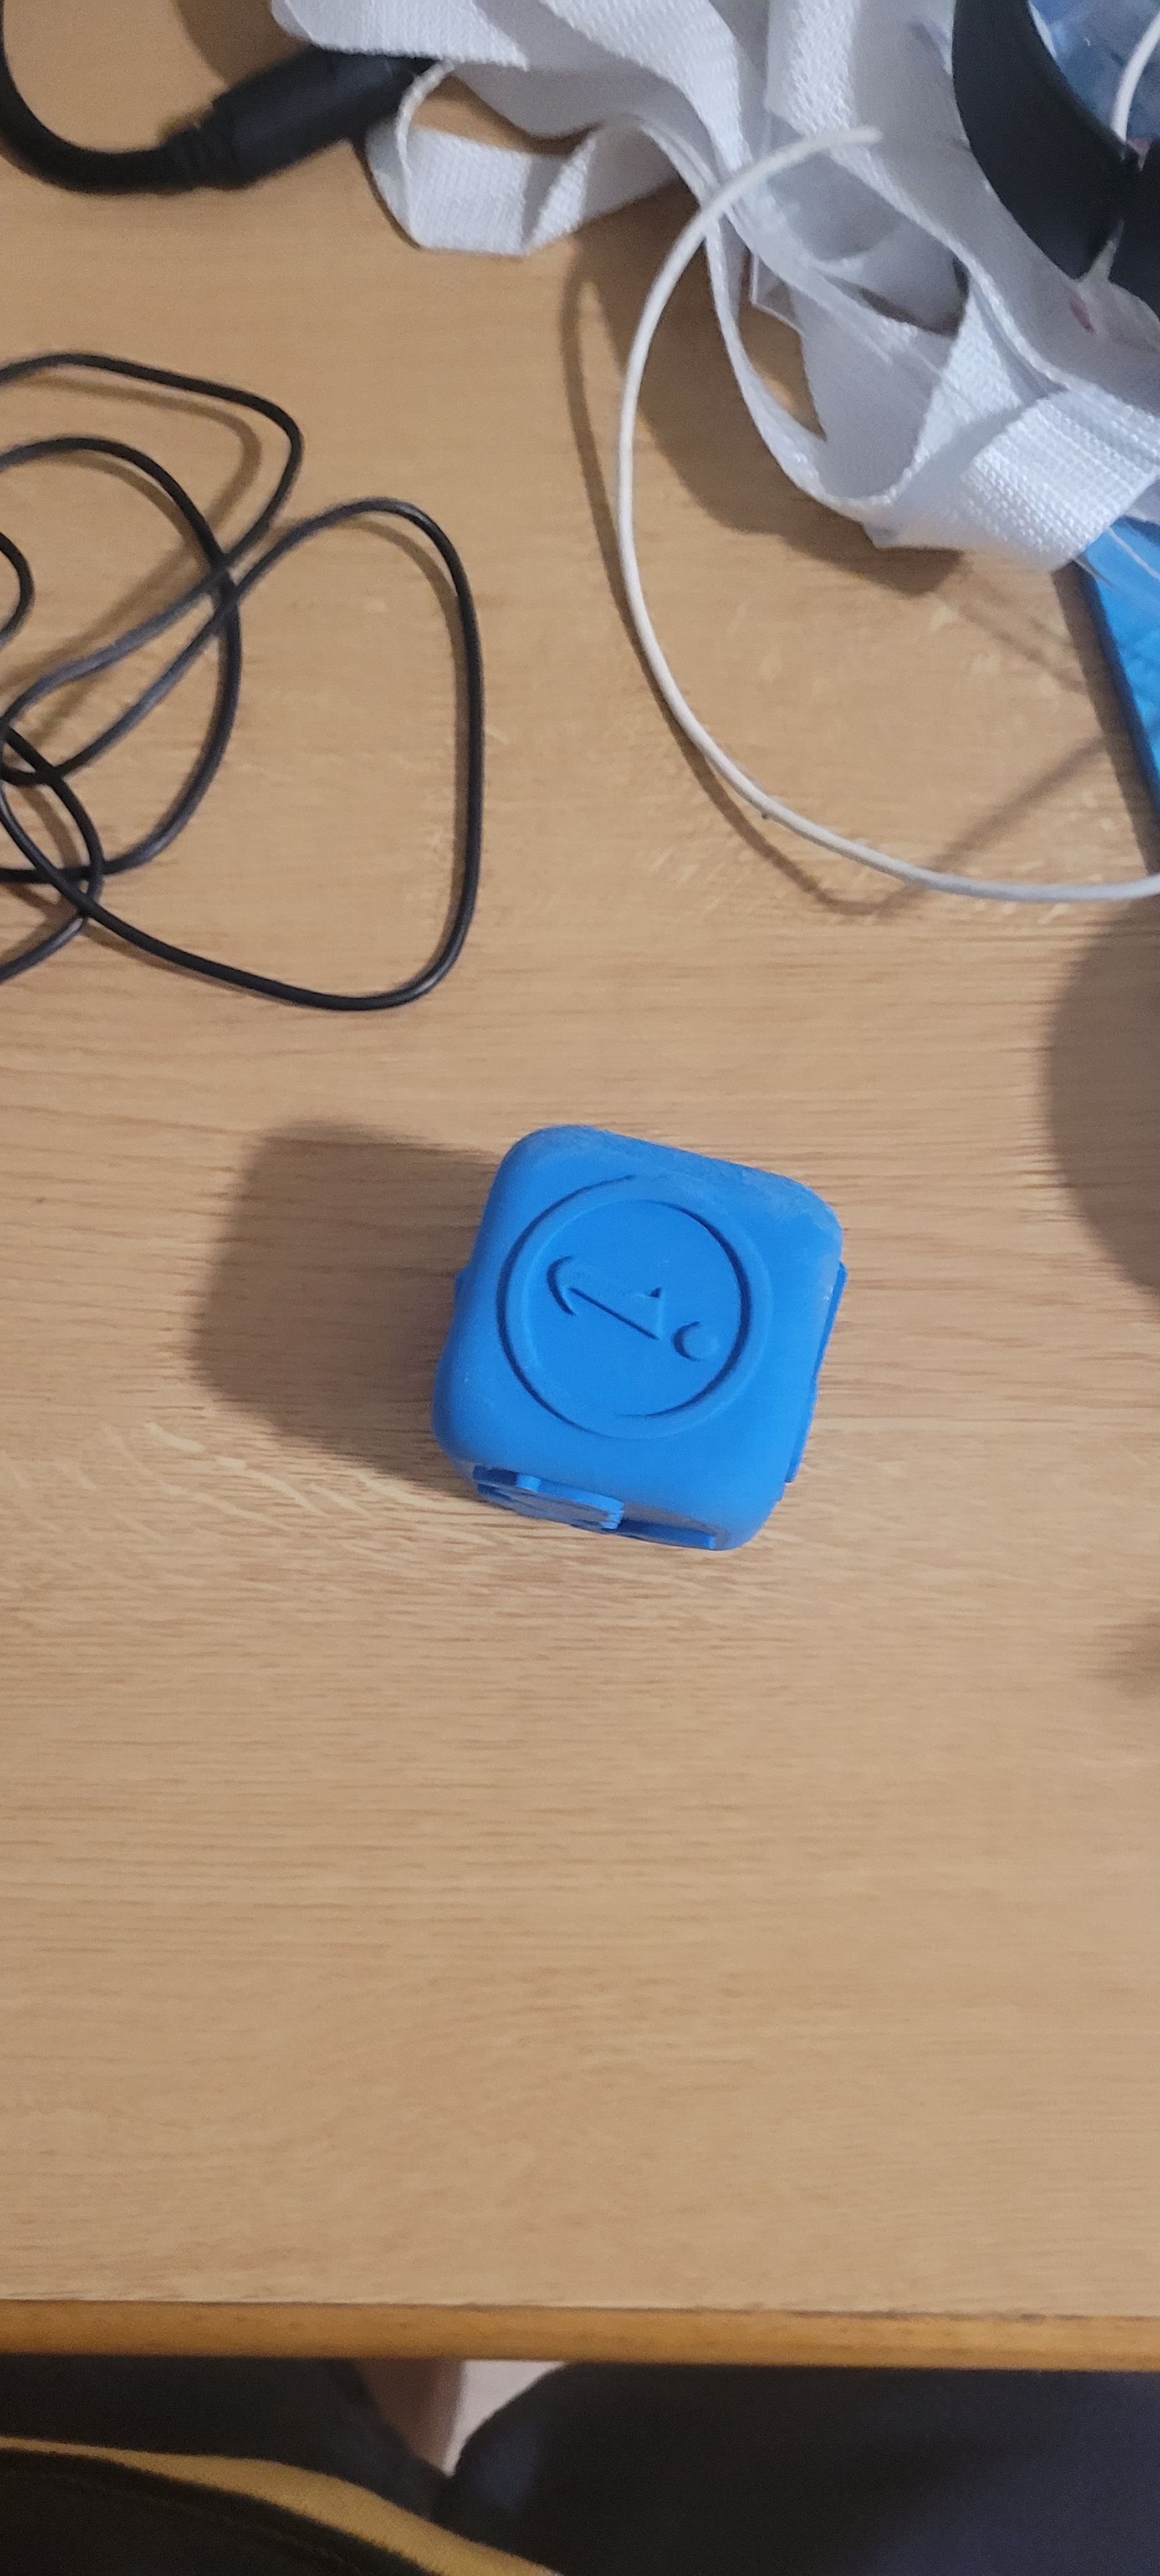Info: (486, 1135, 774, 1477)
